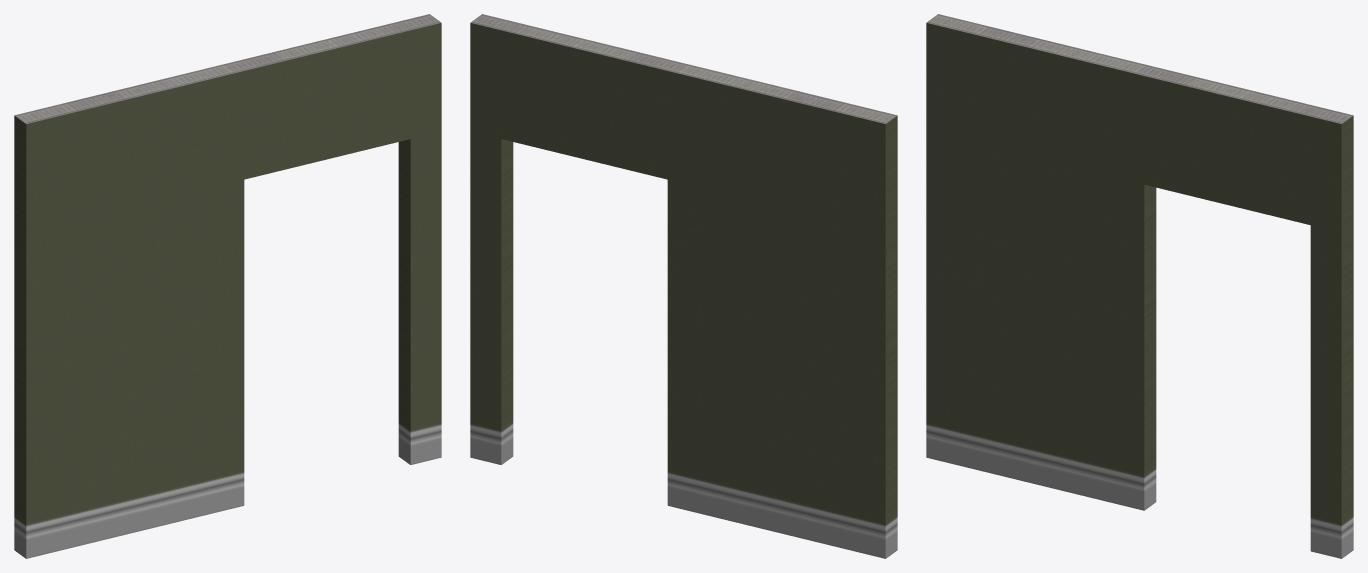
File: wall2_3.fbx
The picture shows the model from 3 angles, left to right: view 1: azimuth 30°, elevation 25°; view 2: azimuth 150°, elevation 25°; view 3: azimuth 330°, elevation 25°; orthographic projection.
Parts seen in each view (by area): view 1: wall2_green_c; view 2: wall2_green_c; view 3: wall2_green_c.
Boxes of the visible parts, bbox=[...] form: wall2_green_c: bbox=[14, 14, 441, 558]; wall2_green_c: bbox=[470, 14, 897, 558]; wall2_green_c: bbox=[926, 14, 1353, 558].
Bounding box in the file's own units: 400 × 400 × 20.
